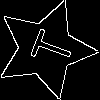T: (20, 24, 76, 69)
